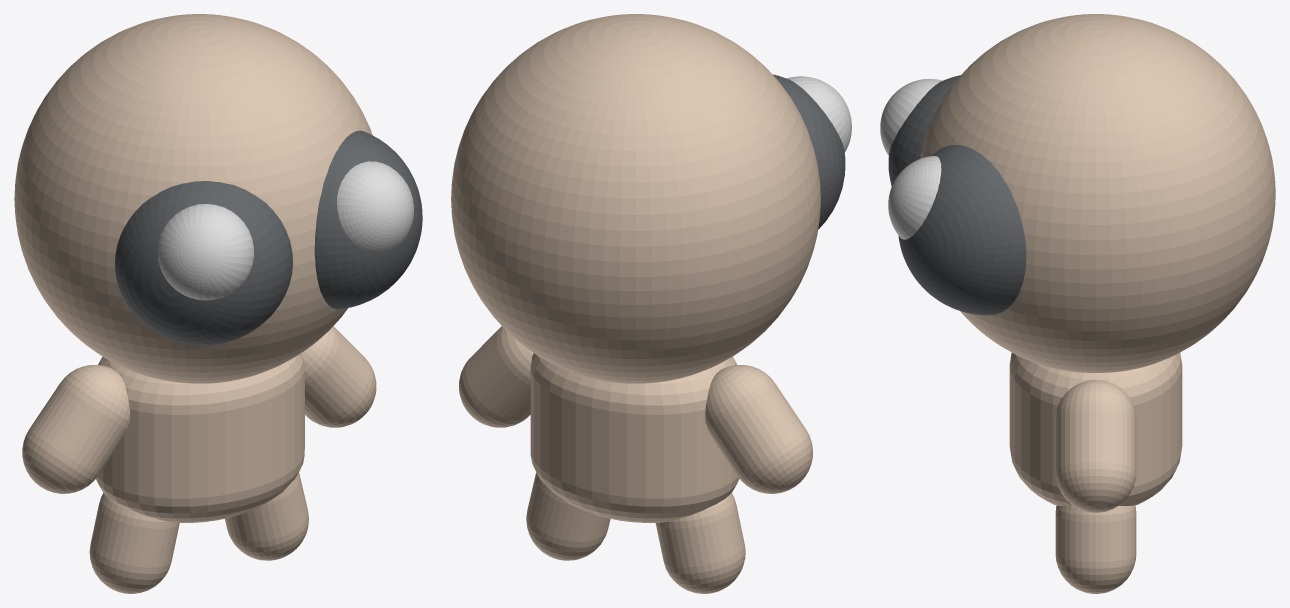
File: isaac.glb
The picture shows the model from 3 angles, left to right: view 1: azimuth 30°, elevation 25°; view 2: azimuth 150°, elevation 25°; view 3: azimuth 270°, elevation 25°; orthographic projection. The views are drawn at different scales.
Parts seen in each view (by area): view 1: Mesh_Mesh_head_geo.001_lambert2SG.001; view 2: Mesh_Mesh_head_geo.001_lambert2SG.001; view 3: Mesh_Mesh_head_geo.001_lambert2SG.001.
Part boxes in pixels (x1,y1,x2,y2): Mesh_Mesh_head_geo.001_lambert2SG.001: [14, 14, 422, 593]; Mesh_Mesh_head_geo.001_lambert2SG.001: [451, 14, 851, 593]; Mesh_Mesh_head_geo.001_lambert2SG.001: [880, 14, 1275, 593].
Size of the model in its own units: 0.0429 by 0.0647 by 0.044.
